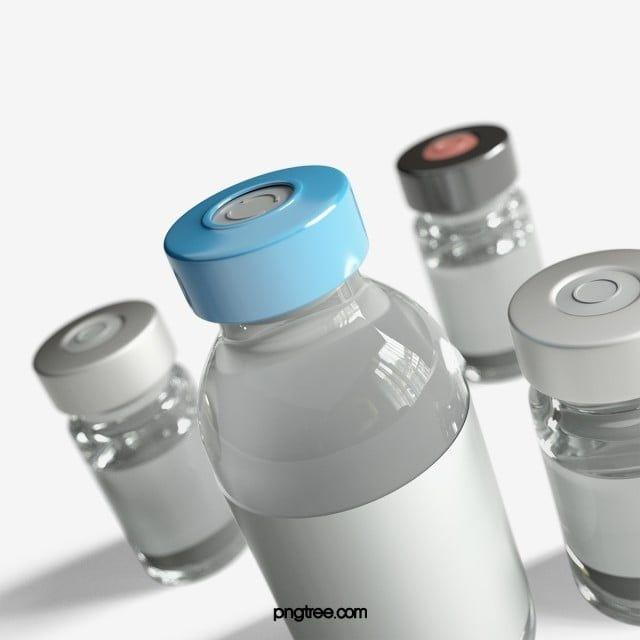vial: (175, 183, 355, 320), (515, 262, 640, 354), (50, 312, 172, 376), (404, 132, 508, 182)
